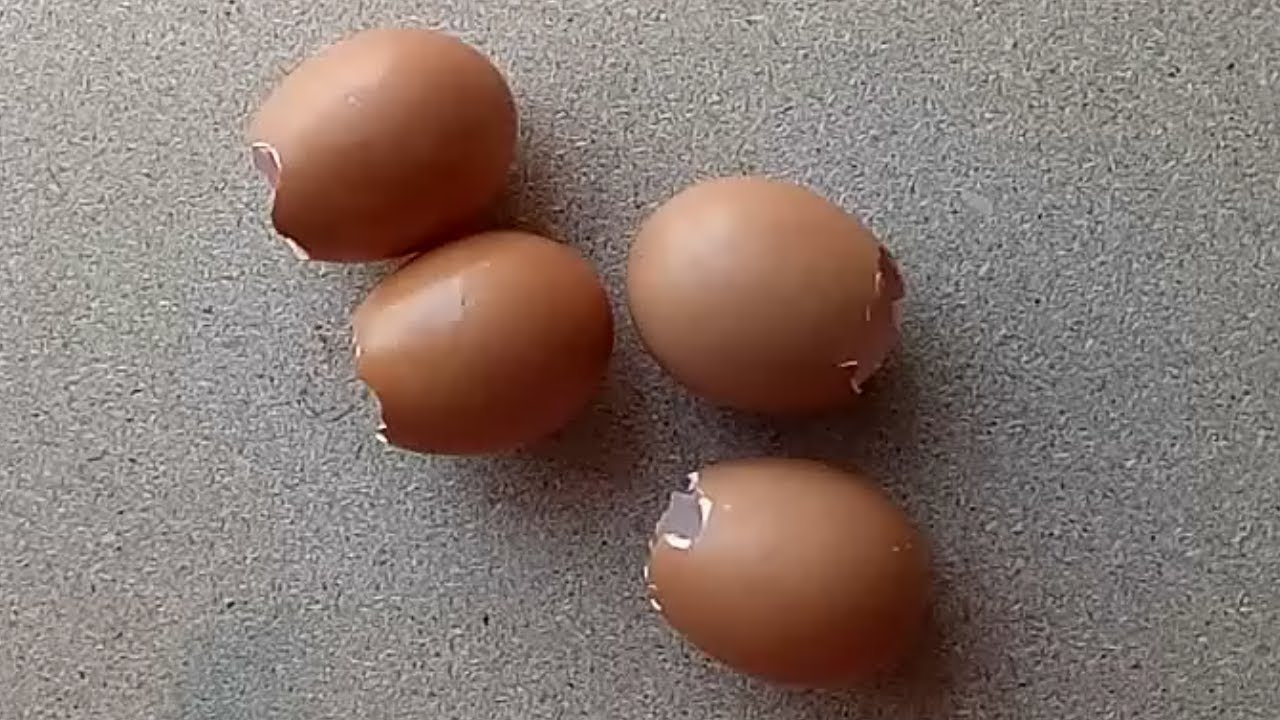kitchen_waste: (219, 12, 561, 280), (608, 428, 946, 697), (595, 152, 912, 426), (342, 220, 624, 477)
